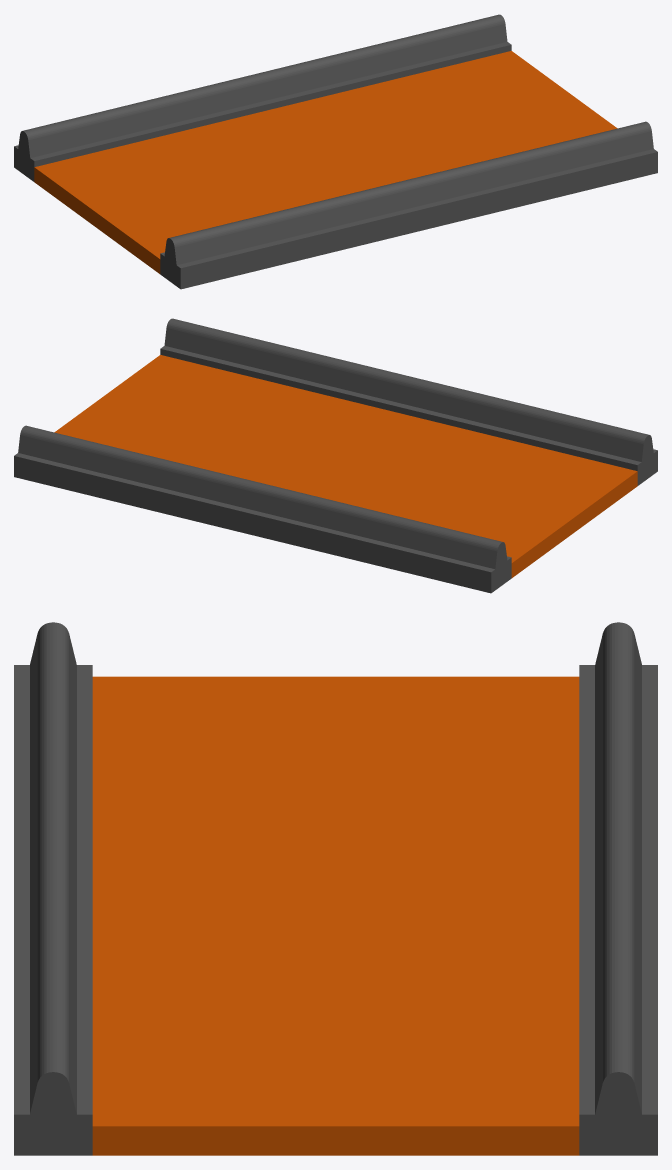
Rendered from RailSmall.fbx.
3 renders of one model, top to bottom at view 1: azimuth 30°, elevation 25°; view 2: azimuth 150°, elevation 25°; view 3: azimuth 270°, elevation 25°, orthographic. The views are drawn at different scales.
Visible parts, largest first — view 1: RailSmall; view 2: RailSmall; view 3: RailSmall.
Part boxes in pixels (<box>): RailSmall: <box>14,14,657,289</box>; RailSmall: <box>14,318,657,593</box>; RailSmall: <box>14,622,657,1155</box>.
Bounding box in the file's own units: 1.65 × 0.143 × 1.
